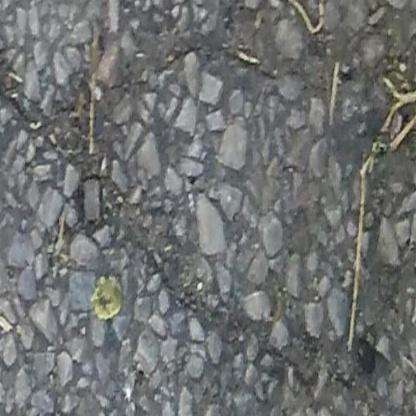Cracks: (0, 46, 414, 395)
